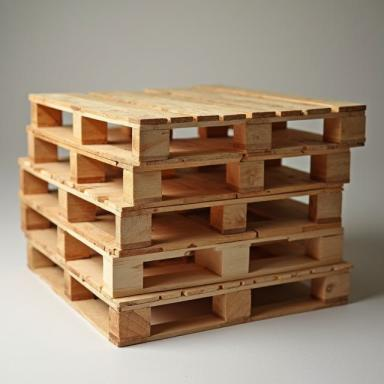pallet: (27, 239, 355, 348), (20, 198, 344, 299), (19, 164, 343, 256), (26, 84, 367, 166), (17, 131, 350, 213), (161, 164, 226, 202), (151, 297, 212, 325), (251, 280, 312, 308), (247, 196, 310, 223), (152, 207, 211, 235), (82, 123, 132, 151), (249, 239, 306, 260), (143, 255, 195, 268), (286, 119, 323, 135), (105, 163, 123, 193), (280, 156, 311, 173), (198, 125, 233, 138)
